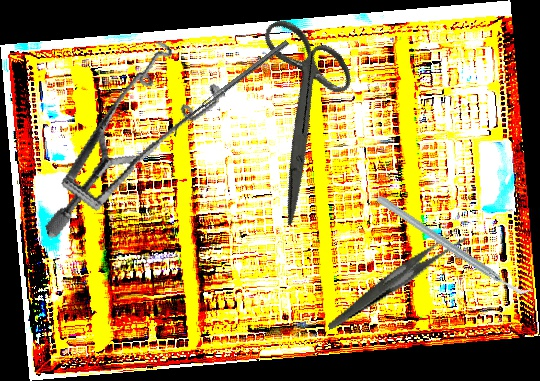Chopper: (375, 154, 535, 337)
Dressing Forceps: (311, 226, 480, 330)
Iris Scissors: (201, 2, 401, 226)
Spatula Surgical: (168, 39, 293, 138)
Speculum: (5, 28, 250, 239)
